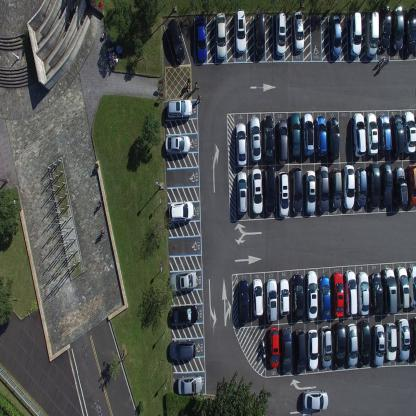car: (166, 16, 186, 63), (381, 266, 398, 314), (168, 269, 196, 293), (365, 10, 379, 58), (393, 165, 408, 209), (344, 269, 358, 316), (332, 322, 346, 368), (356, 270, 370, 316), (348, 11, 362, 57), (352, 111, 366, 157), (395, 266, 410, 308), (402, 109, 416, 154), (280, 326, 293, 374), (291, 272, 304, 320), (301, 389, 329, 411), (331, 270, 344, 317), (234, 6, 247, 53), (249, 115, 262, 162), (293, 329, 307, 372), (390, 115, 404, 158), (358, 320, 371, 366), (342, 164, 355, 210), (169, 338, 196, 360), (306, 270, 318, 319), (195, 14, 207, 63), (264, 165, 276, 214), (290, 165, 302, 214), (317, 164, 329, 213), (314, 115, 328, 157), (263, 114, 275, 163), (265, 277, 278, 322), (318, 275, 331, 320), (215, 12, 227, 60), (251, 166, 263, 214), (277, 170, 289, 218), (368, 161, 380, 209), (289, 111, 301, 159), (365, 112, 378, 156), (171, 304, 198, 325), (381, 160, 393, 207), (377, 114, 391, 154), (319, 325, 332, 368), (397, 319, 410, 362), (237, 278, 249, 324), (404, 8, 416, 54), (276, 118, 288, 164), (169, 200, 194, 222), (370, 272, 383, 314), (165, 134, 191, 155), (166, 98, 192, 119), (327, 117, 340, 159), (346, 322, 358, 367), (274, 11, 286, 56), (392, 5, 404, 50), (236, 170, 248, 215), (302, 112, 314, 157), (254, 11, 265, 59), (235, 122, 247, 166), (380, 4, 391, 51), (372, 324, 384, 367), (384, 322, 397, 361), (304, 168, 315, 214), (268, 327, 280, 369), (177, 376, 203, 395), (292, 10, 304, 51), (355, 166, 367, 207), (278, 277, 290, 317), (330, 15, 341, 58), (307, 328, 318, 370), (330, 167, 341, 209), (406, 163, 416, 207), (252, 278, 263, 316), (408, 265, 416, 309), (410, 317, 416, 362)
